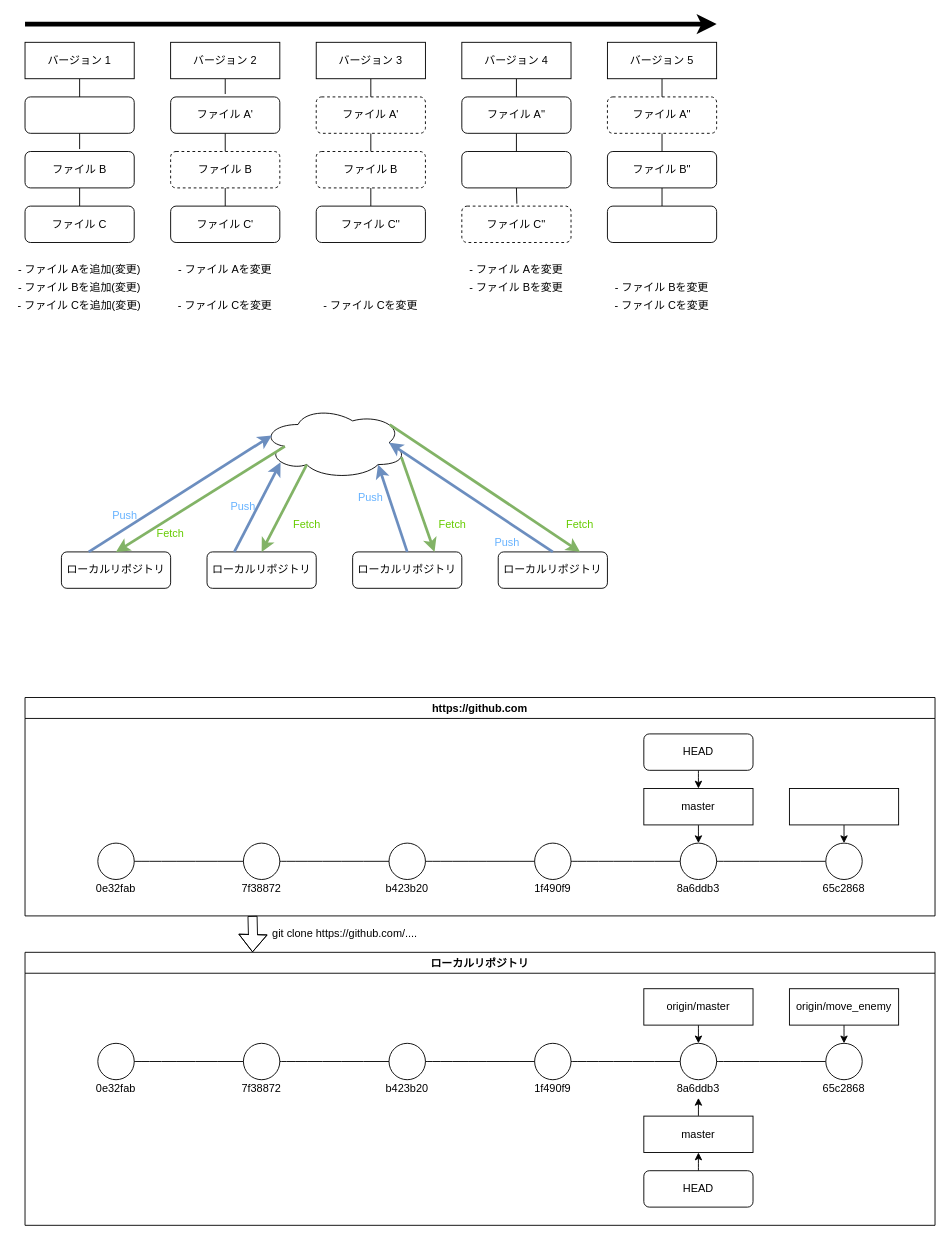
Some shapes in this 951 by 1241 pixel diagram are drawn without their labels. Here are the shapes that lost their labels. From the top down, the box of each, then its label:
(24, 96, 134, 133): ファイル A
(461, 151, 571, 188): ファイル B'
(607, 205, 717, 243): ファイル C'''
(261, 405, 407, 479): リモートリポジトリ
(789, 788, 899, 825): move_enemy
